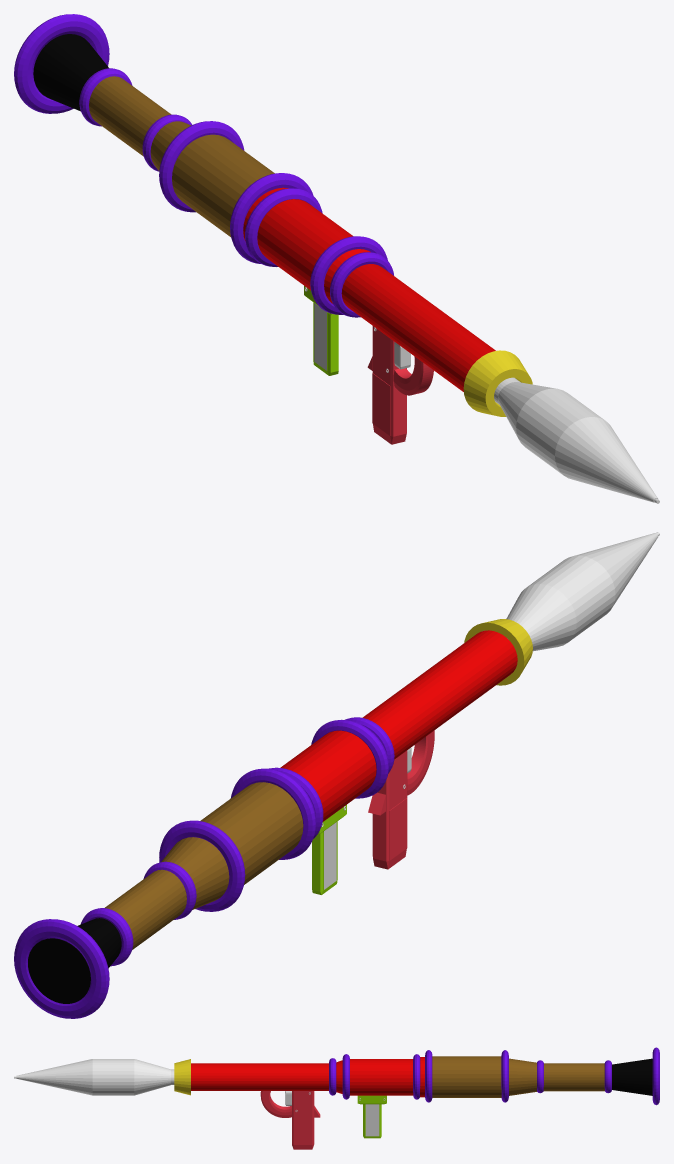
The model's file is RPG2.fbx.
3 views of the same model, one above another, from view 1: azimuth 30°, elevation 25°; view 2: azimuth 150°, elevation 25°; view 3: azimuth 270°, elevation 25° (orthographic). The views are drawn at different scales.
Parts seen in each view (by area): view 1: BaseCone.002, BaseCone.001, BaseCone.005, Cube, sec_TopHandle; view 2: BaseCone.001, BaseCone.002, BaseCone.005, Cube, sec_TopHandle; view 3: BaseCone.002, BaseCone.001, BaseCone.005, Cube, sec_TopHandle.
Boxes of the visible parts, <box> form: BaseCone.002: <box>89,93,532,416</box>; BaseCone.001: <box>14,14,274,237</box>; BaseCone.005: <box>494,377,659,503</box>; Cube: <box>367,326,433,444</box>; sec_TopHandle: <box>304,286,338,375</box>; BaseCone.001: <box>14,782,303,1018</box>; BaseCone.002: <box>87,619,532,921</box>; BaseCone.005: <box>506,532,659,651</box>; Cube: <box>368,730,434,869</box>; sec_TopHandle: <box>312,805,346,894</box>; BaseCone.002: <box>174,1050,432,1102</box>; BaseCone.001: <box>432,1047,659,1105</box>; BaseCone.005: <box>14,1059,174,1095</box>; Cube: <box>260,1091,320,1149</box>; sec_TopHandle: <box>357,1095,386,1138</box>.
Bounding box in the file's own units: 40.53 × 74.12 × 445.
